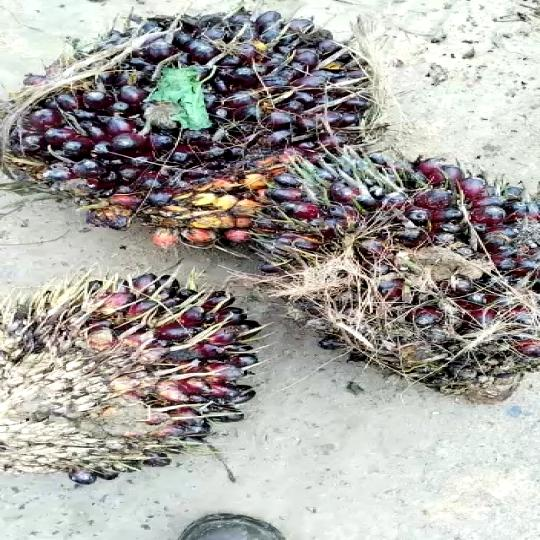kurang masak: (23, 9, 395, 250), (258, 159, 540, 407), (0, 264, 271, 482)
